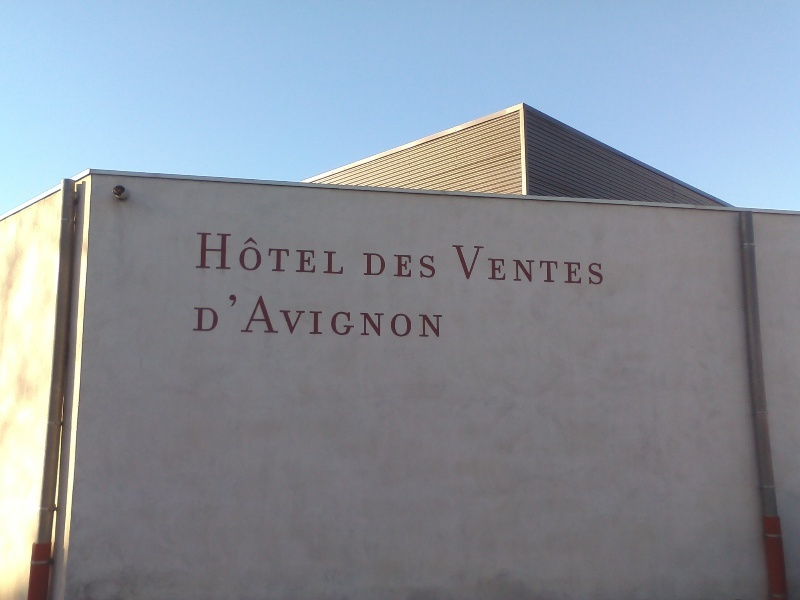text: (209, 294, 224, 338), (225, 294, 240, 338), (241, 294, 256, 338), (257, 294, 272, 338), (273, 294, 288, 338), (289, 294, 304, 338), (305, 294, 320, 338), (321, 294, 336, 338), (337, 294, 352, 338), (353, 294, 368, 338), (369, 294, 384, 338), (385, 294, 400, 338), (401, 294, 416, 338), (417, 294, 432, 338), (209, 232, 224, 275), (225, 232, 240, 275), (241, 232, 256, 275), (257, 232, 272, 275), (273, 232, 288, 275), (289, 232, 304, 275), (305, 232, 320, 275), (321, 232, 336, 275), (465, 244, 480, 287), (481, 244, 496, 287), (497, 244, 512, 287), (513, 244, 528, 287), (529, 244, 544, 287), (545, 244, 560, 287), (561, 244, 576, 287), (577, 244, 592, 287), (194, 294, 208, 338), (433, 294, 444, 338), (197, 232, 208, 275), (453, 244, 464, 287), (593, 244, 604, 287), (369, 251, 384, 279), (385, 251, 400, 279), (401, 251, 416, 279), (417, 251, 432, 279), (337, 232, 345, 275), (363, 251, 368, 279), (433, 251, 436, 279)
